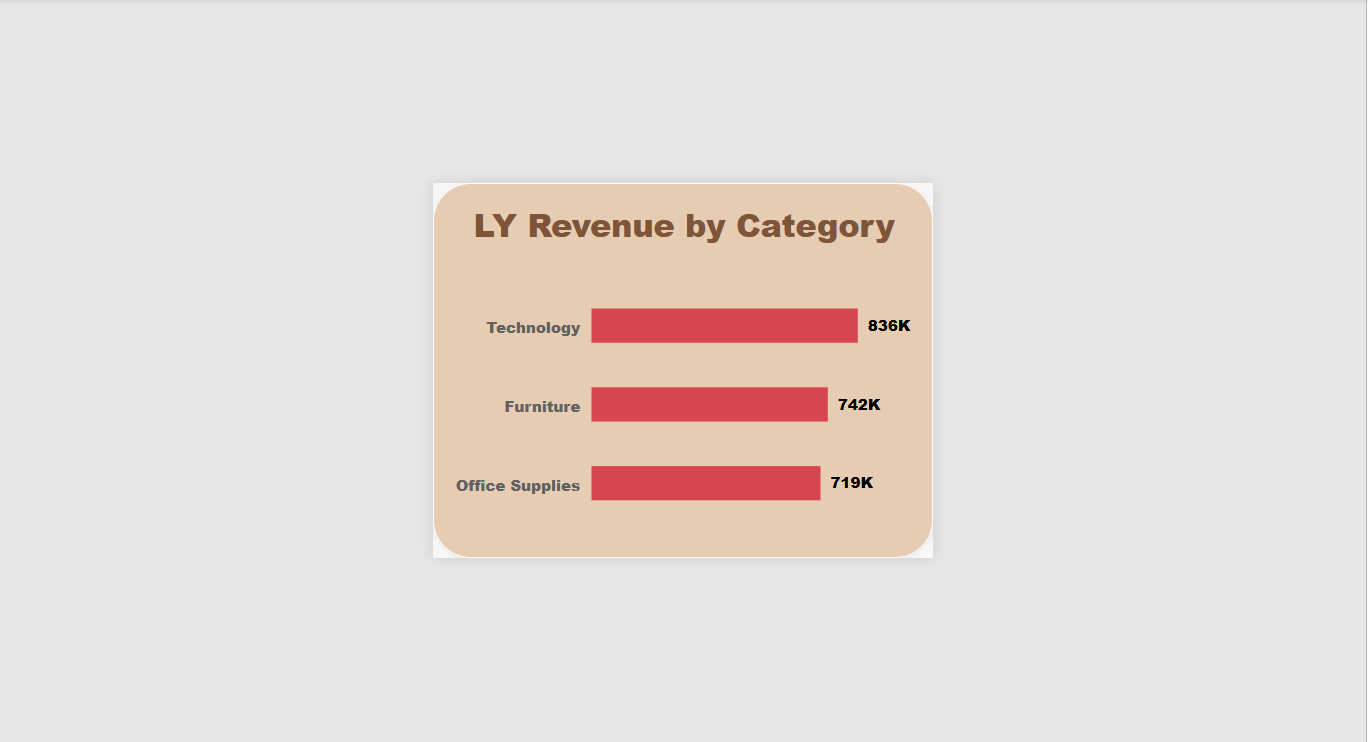

The page's visual inventory and layout, read from the dashboard file:
{"tool":"powerbi","page":{"name":"TOOLTIP","canvas":[400,300],"ordinal":1},"visuals":[{"type":"clusteredBarChart","fields":{"Category":["Prouducts.Category"],"Y":["Calculation.LY Revenue"]},"box":[0,0,400,300],"z":0}]}

Visuals, with their boxes on the page's 400x300 design canvas (x1, y1, x2, y2). These are canvas units, not pixel positions in the 1368x742 screenshot, which may show the page scaled, cropped or inside an application window:
clusteredBarChart - Prouducts.Category x Calculation.LY Revenue: rect(0, 0, 400, 300)
